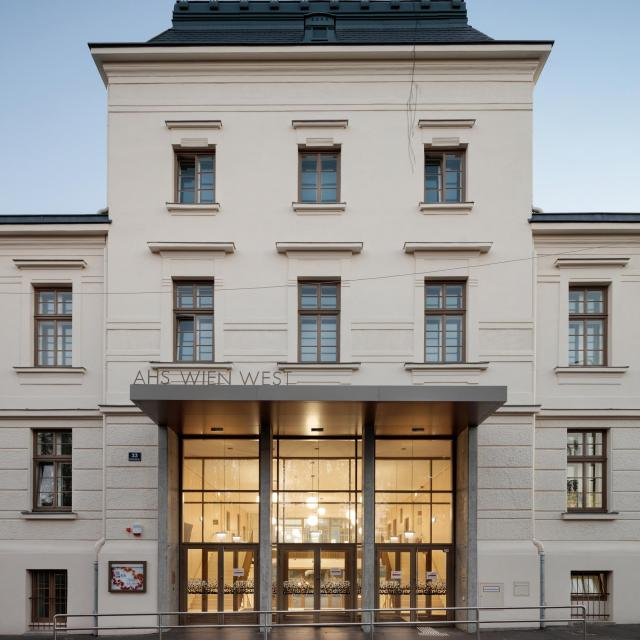door: (279, 544, 361, 627), (375, 542, 457, 623), (181, 545, 261, 625)
window: (272, 438, 363, 543), (375, 436, 458, 545), (182, 436, 260, 542), (173, 277, 217, 364), (425, 279, 467, 364), (569, 286, 612, 369), (567, 429, 609, 512), (298, 283, 339, 365), (34, 430, 74, 512), (37, 287, 77, 369), (424, 148, 466, 204), (173, 152, 215, 207), (299, 148, 341, 203), (28, 574, 72, 622)
